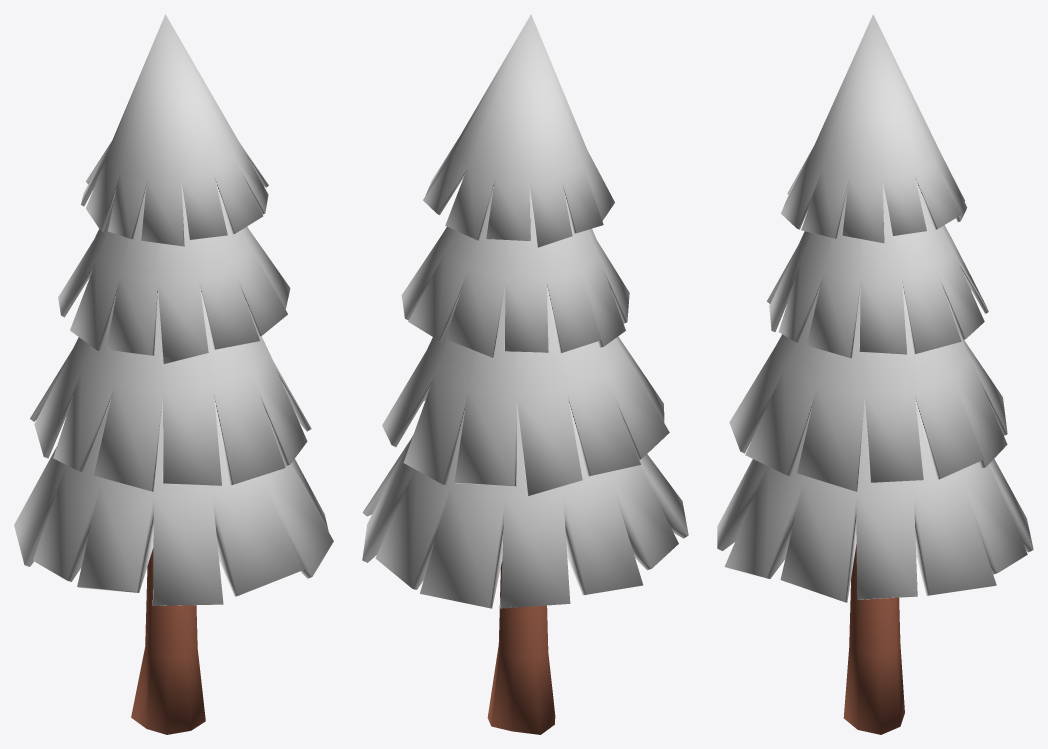
Rendered from tree_pinev2.fbx.
3 views of the same model, side by side, from view 1: azimuth 30°, elevation 25°; view 2: azimuth 150°, elevation 25°; view 3: azimuth 270°, elevation 25° (orthographic).
Parts seen in each view (by area): view 1: Tree2.006; view 2: Tree2.006; view 3: Tree2.006.
Part boxes in pixels (left/top/right/bottom): Tree2.006: left=14, top=14, right=333, bottom=734; Tree2.006: left=362, top=14, right=688, bottom=734; Tree2.006: left=717, top=14, right=1033, bottom=734.
Size of the model in its own units: 655 by 1629 by 665.
